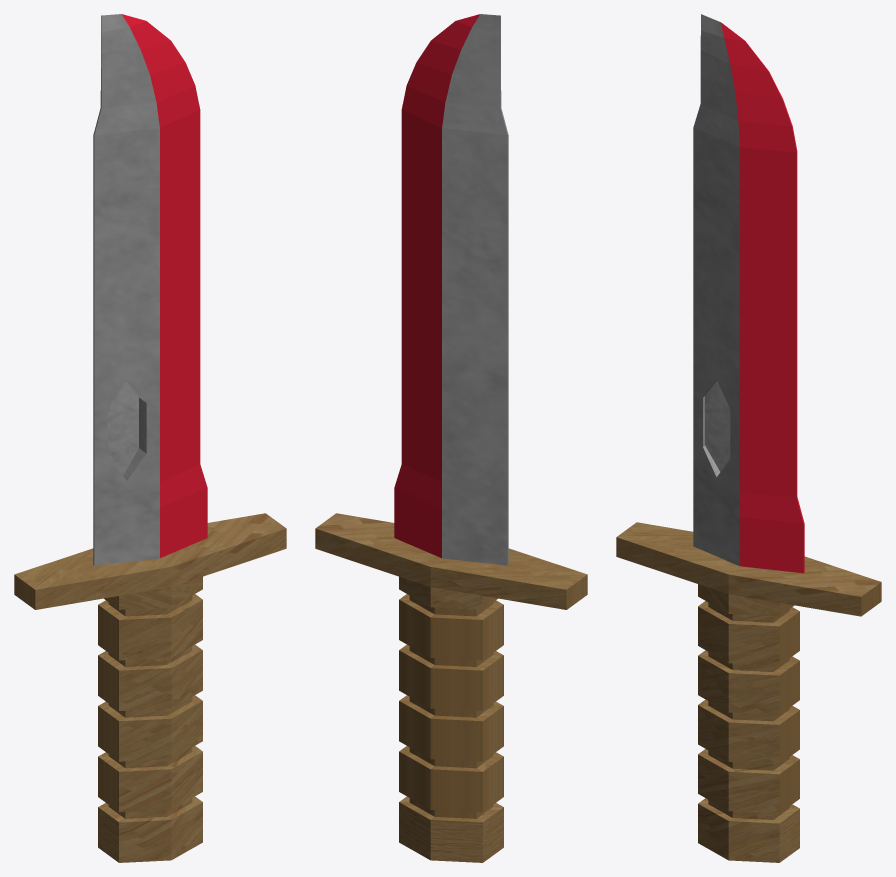
The model's file is item_knife_ruby.fbx.
3 views of the same model, side by side, from view 1: azimuth 30°, elevation 25°; view 2: azimuth 150°, elevation 25°; view 3: azimuth 330°, elevation 25° (orthographic). The views are drawn at different scales.
Parts seen in each view (by area): view 1: Cylinder; view 2: Cylinder; view 3: Cylinder.
Boxes of the visible parts, x1,y1,x2,y2 form: Cylinder: (14, 14, 286, 862); Cylinder: (315, 14, 587, 862); Cylinder: (616, 14, 881, 862).
Bounding box in the file's own units: 520 × 1662 × 150.
3 materials, 2 textured.
